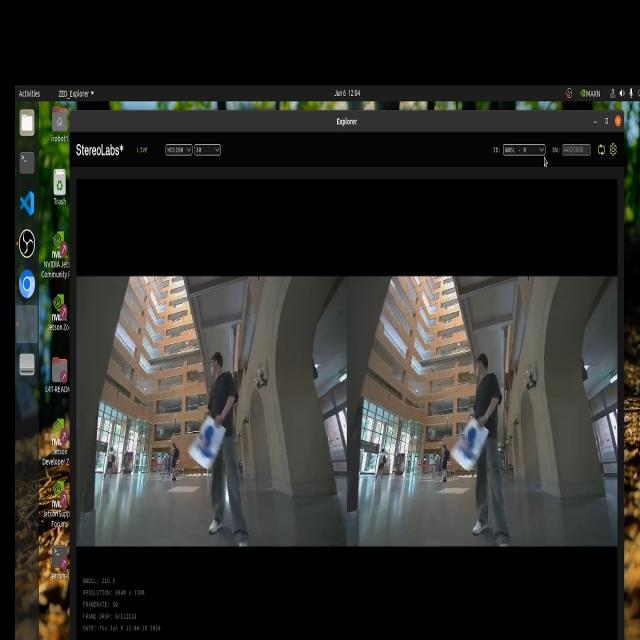blue: (458, 419, 480, 463), (200, 426, 214, 466)
